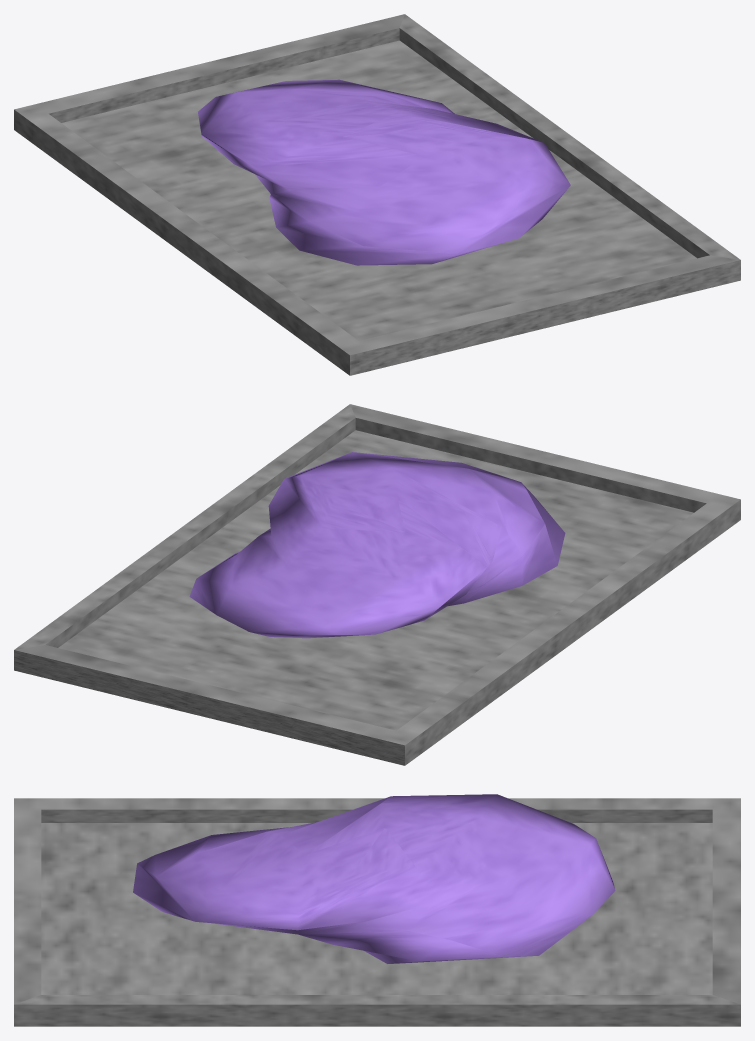
File: PasteGrub.fbx
3 renders of one model, top to bottom at view 1: azimuth 30°, elevation 25°; view 2: azimuth 150°, elevation 25°; view 3: azimuth 270°, elevation 25°, orthographic. The views are drawn at different scales.
Parts seen in each view (by area): view 1: PasteGrub; view 2: PasteGrub; view 3: PasteGrub.
Boxes of the visible parts, x1,y1,x2,y2 form: PasteGrub: (14, 14, 740, 375); PasteGrub: (14, 404, 740, 765); PasteGrub: (14, 794, 740, 1026).
Bounding box in the file's own units: 1.15 × 0.2047 × 1.71.
